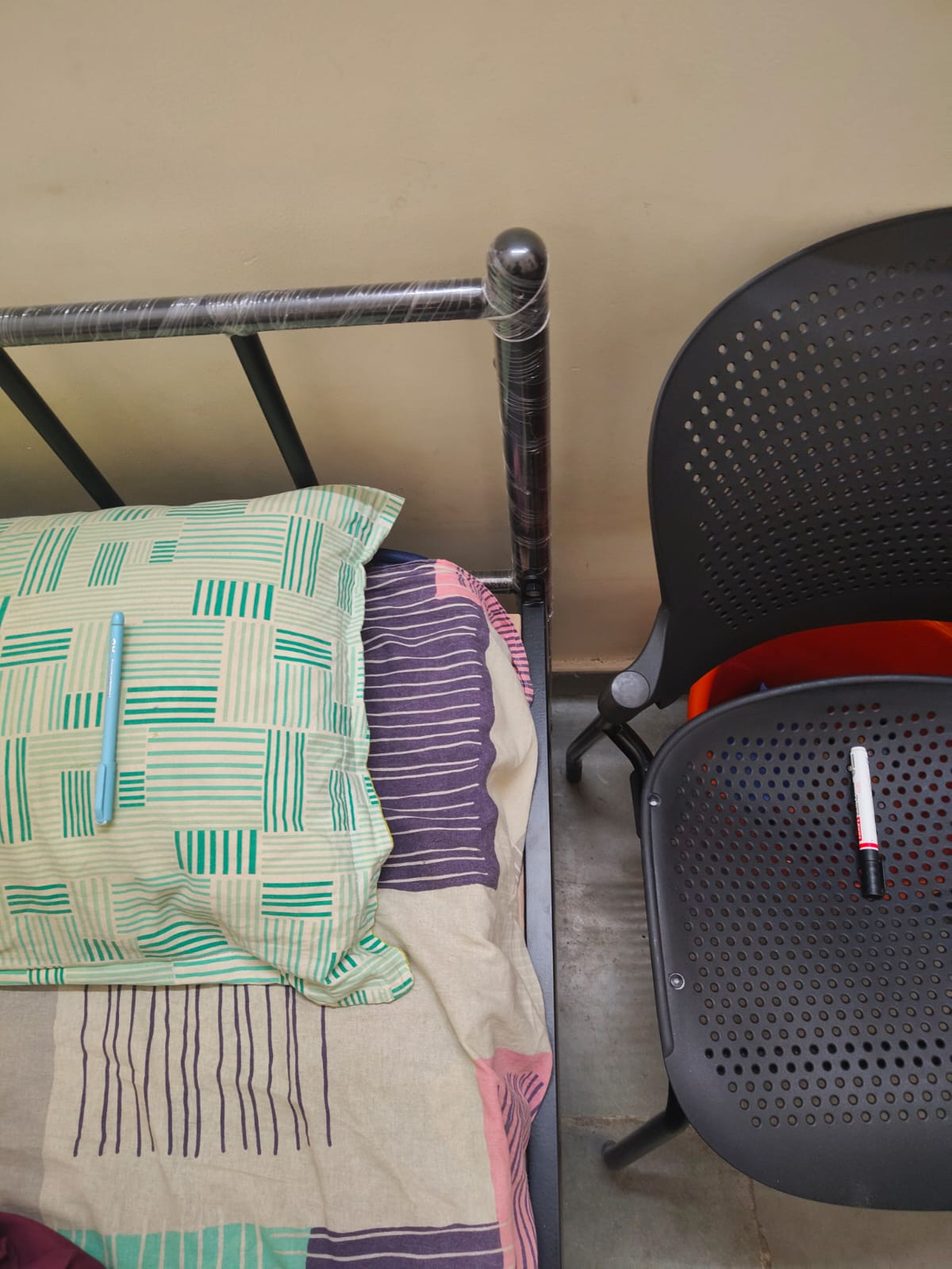case: (840, 739, 895, 905)
pen: (98, 605, 127, 840)
